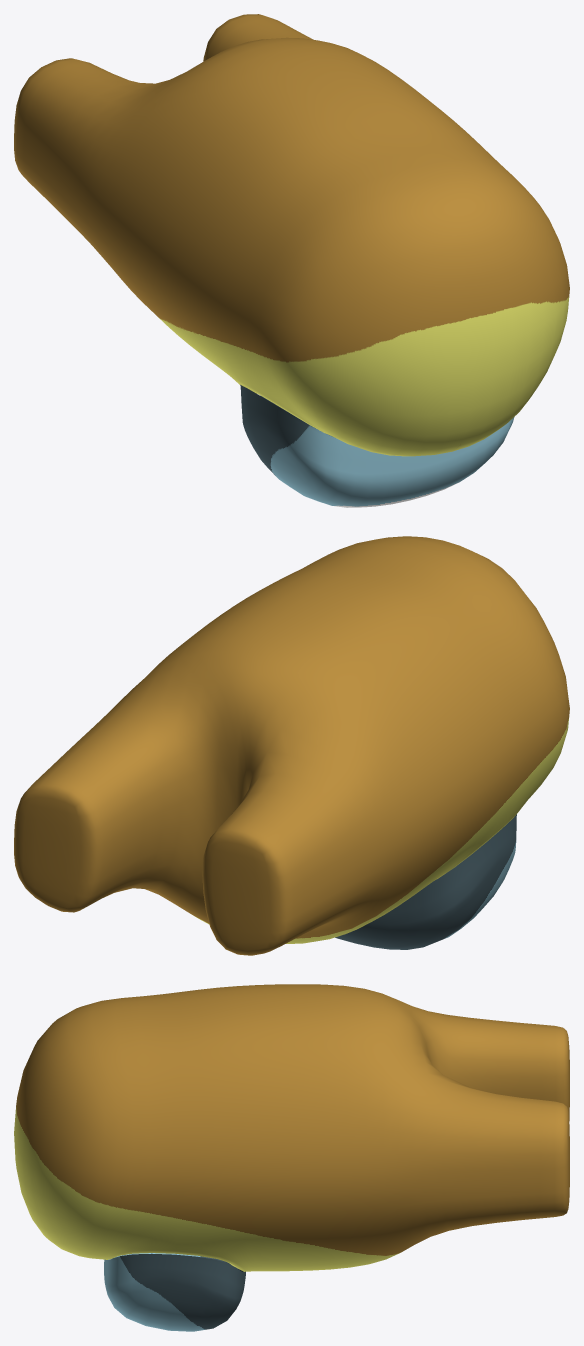
File: YellowAstronaut.obj
The picture shows the model from 3 angles, top to bottom: view 1: azimuth 30°, elevation 25°; view 2: azimuth 150°, elevation 25°; view 3: azimuth 270°, elevation 25°; orthographic projection. The views are drawn at different scales.
Parts seen in each view (by area): view 1: Cube.002; view 2: Cube.002; view 3: Cube.002.
Part boxes in pixels (x1,y1,x2,y2): Cube.002: (14, 14, 569, 507); Cube.002: (14, 536, 569, 955); Cube.002: (14, 984, 569, 1331).
Size of the model in its own units: 255 by 293 by 471.
1 material, 1 textured.
